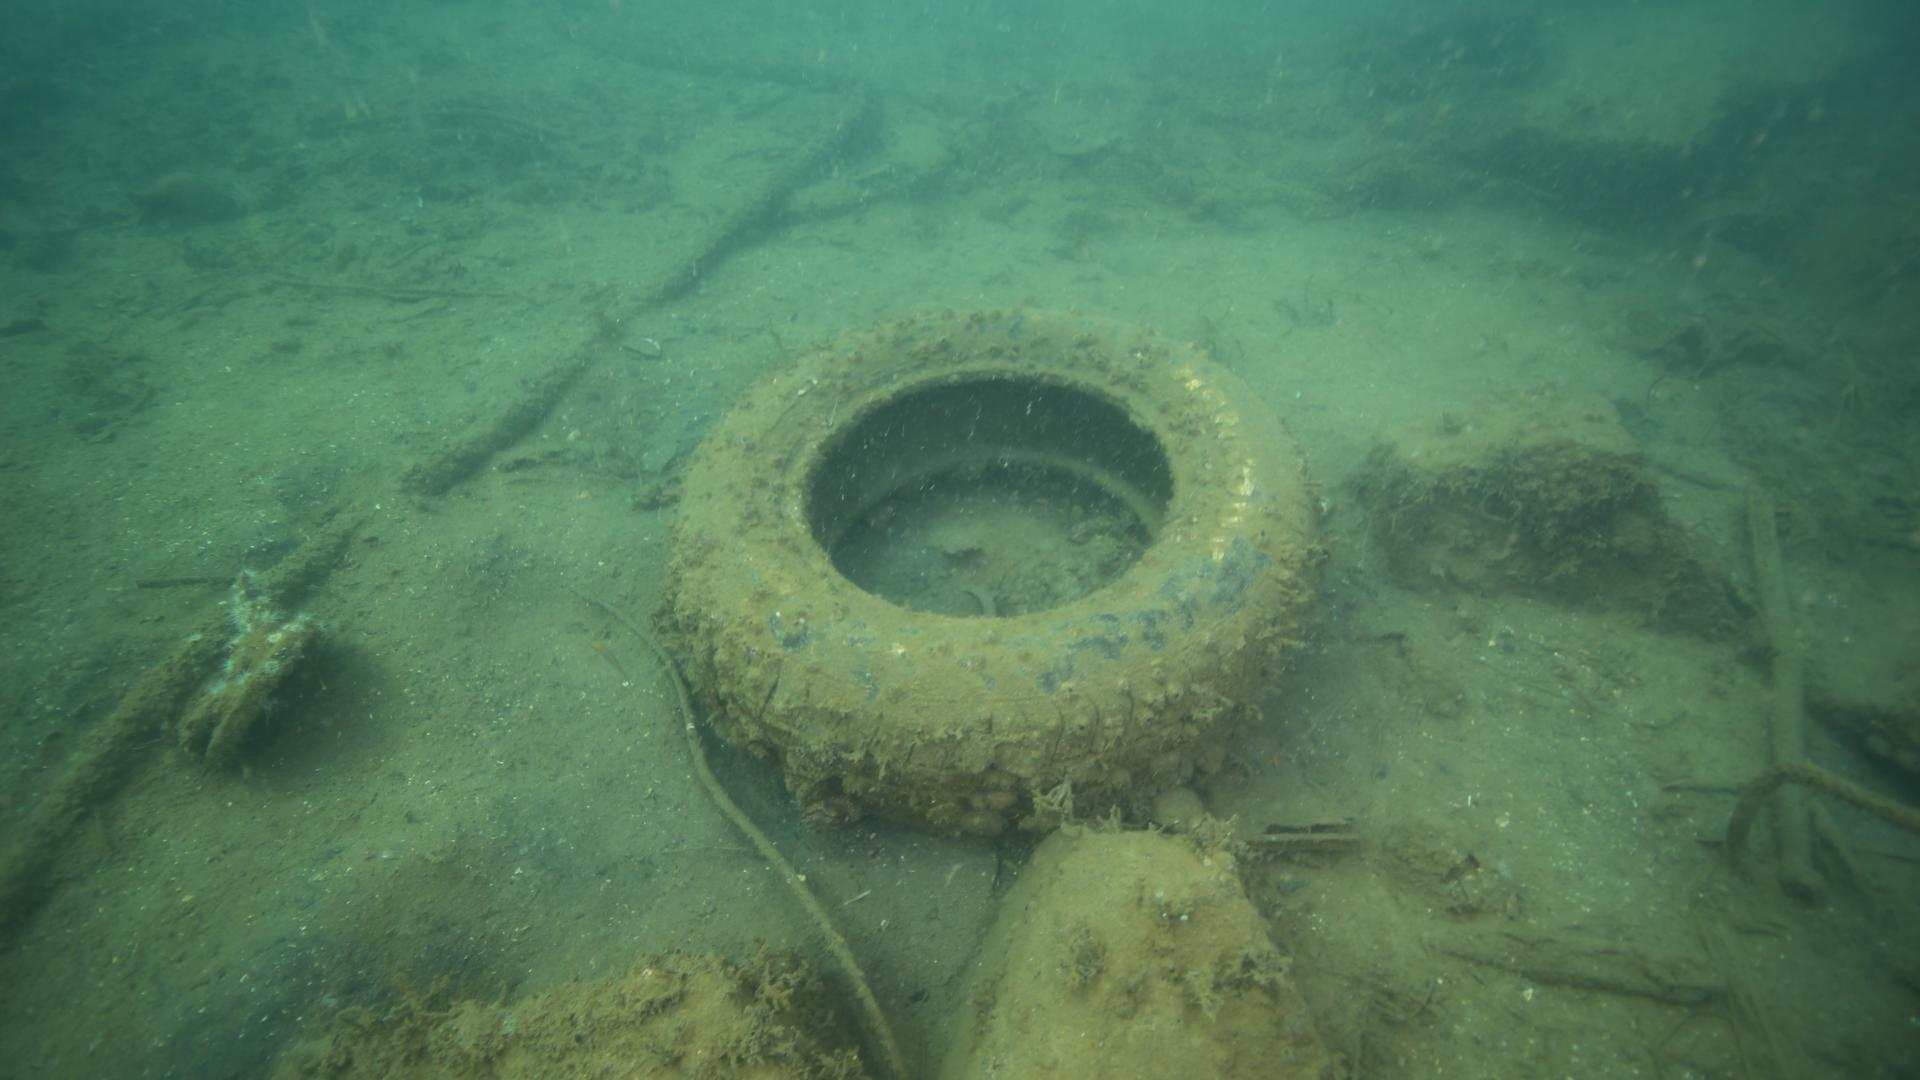tire: (670, 301, 1317, 831)
